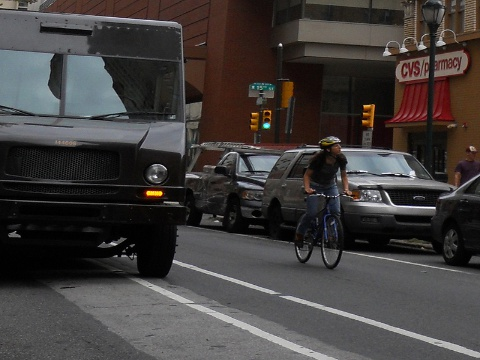hand: (302, 185, 315, 194), (343, 188, 354, 197)
